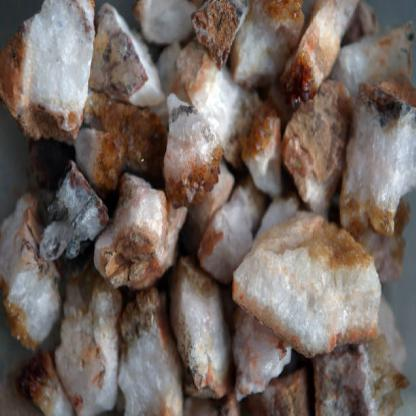Metamorphic_Quartize: (227, 181, 387, 380), (340, 68, 415, 256), (0, 3, 93, 134), (0, 184, 65, 354), (100, 159, 185, 288), (112, 309, 190, 415), (235, 72, 278, 194)
